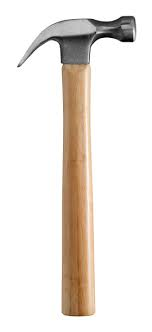hammer: (16, 14, 137, 317)
